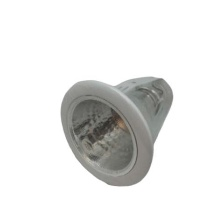light_bulb: (55, 63, 188, 195)
